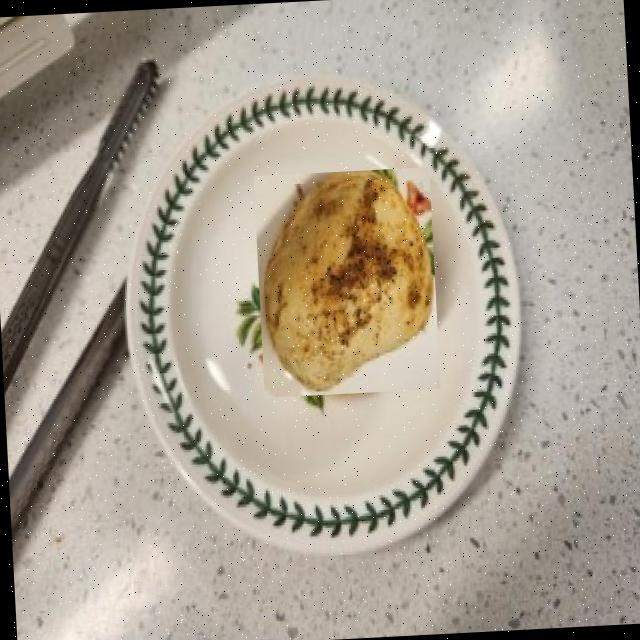Potato: (252, 166, 440, 397)
